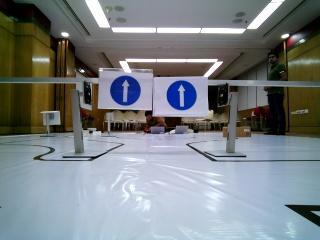straight: (153, 77, 209, 116), (99, 68, 150, 109)
